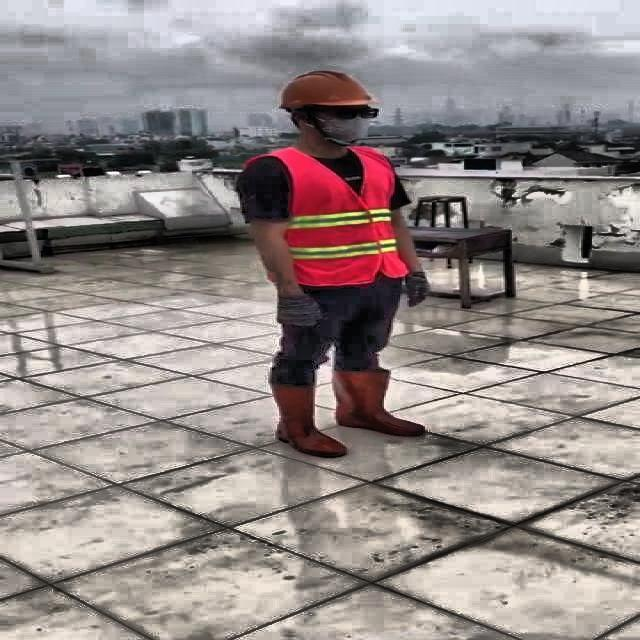safety_helmet: (275, 68, 374, 109)
safety_jacket: (237, 145, 410, 288)
